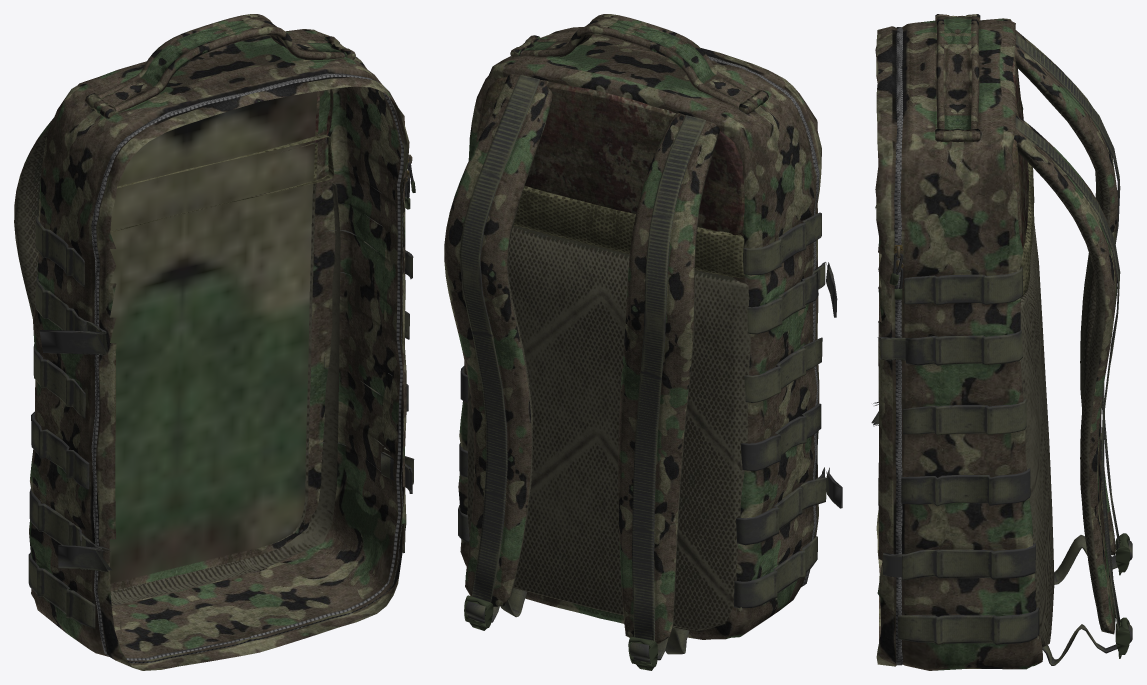
The model's file is Military backpack.fbx.
3 views of the same model, side by side, from view 1: azimuth 30°, elevation 25°; view 2: azimuth 150°, elevation 25°; view 3: azimuth 270°, elevation 25° (orthographic). The views are drawn at different scales.
Visible parts, largest first — view 1: Cube.001, dno 1, dno 2; view 2: Cube.001, dno 2; view 3: Cube.001, dno 2.
Part boxes in pixels (x1=…): Cube.001: x1=14, y1=14, x2=415, y2=670; dno 1: x1=109, y1=91, x2=317, y2=583; dno 2: x1=18, y1=91, x2=320, y2=527; Cube.001: x1=444, y1=14, x2=842, y2=670; dno 2: x1=468, y1=87, x2=743, y2=629; Cube.001: x1=871, y1=14, x2=1132, y2=670; dno 2: x1=1015, y1=56, x2=1054, y2=644.
Size of the model in its own units: 126 by 200 by 79.87.
